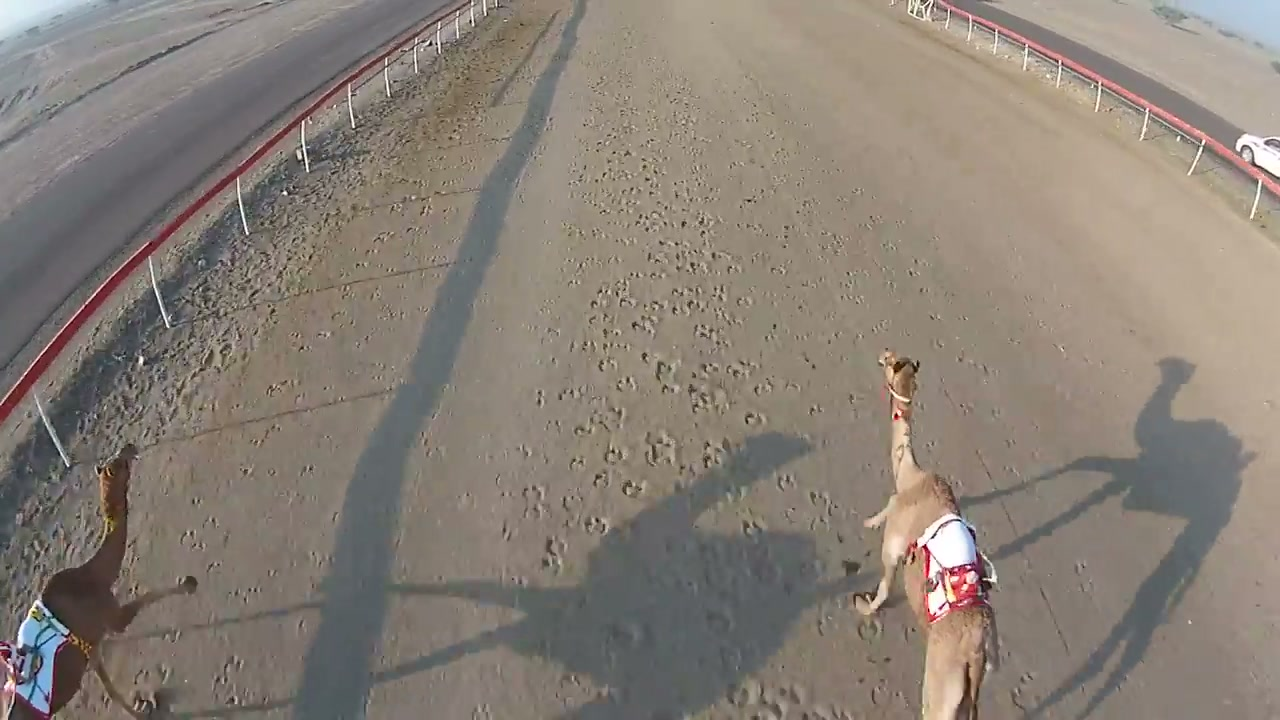animal_foot_print: (542, 71, 840, 719), (122, 267, 349, 715)
